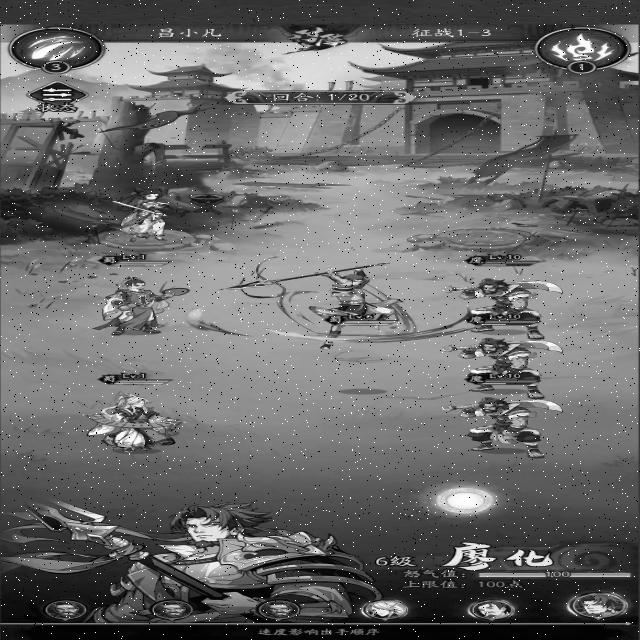hint-guide: (244, 626, 394, 640)
